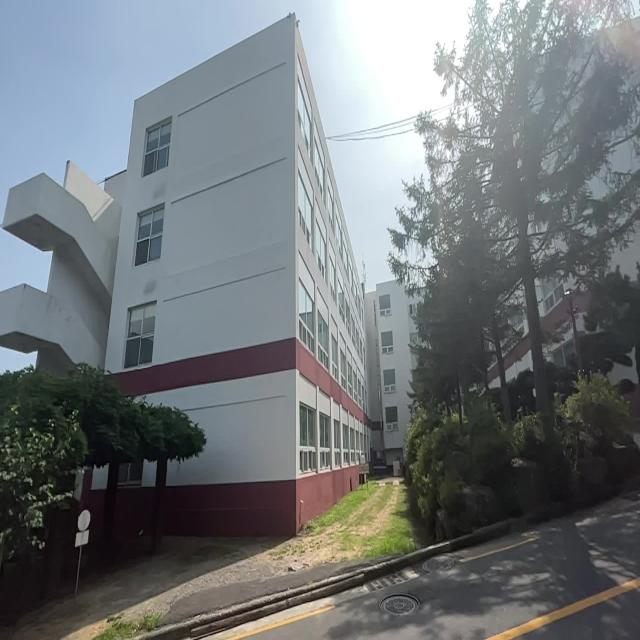building: (32, 28, 389, 512)
